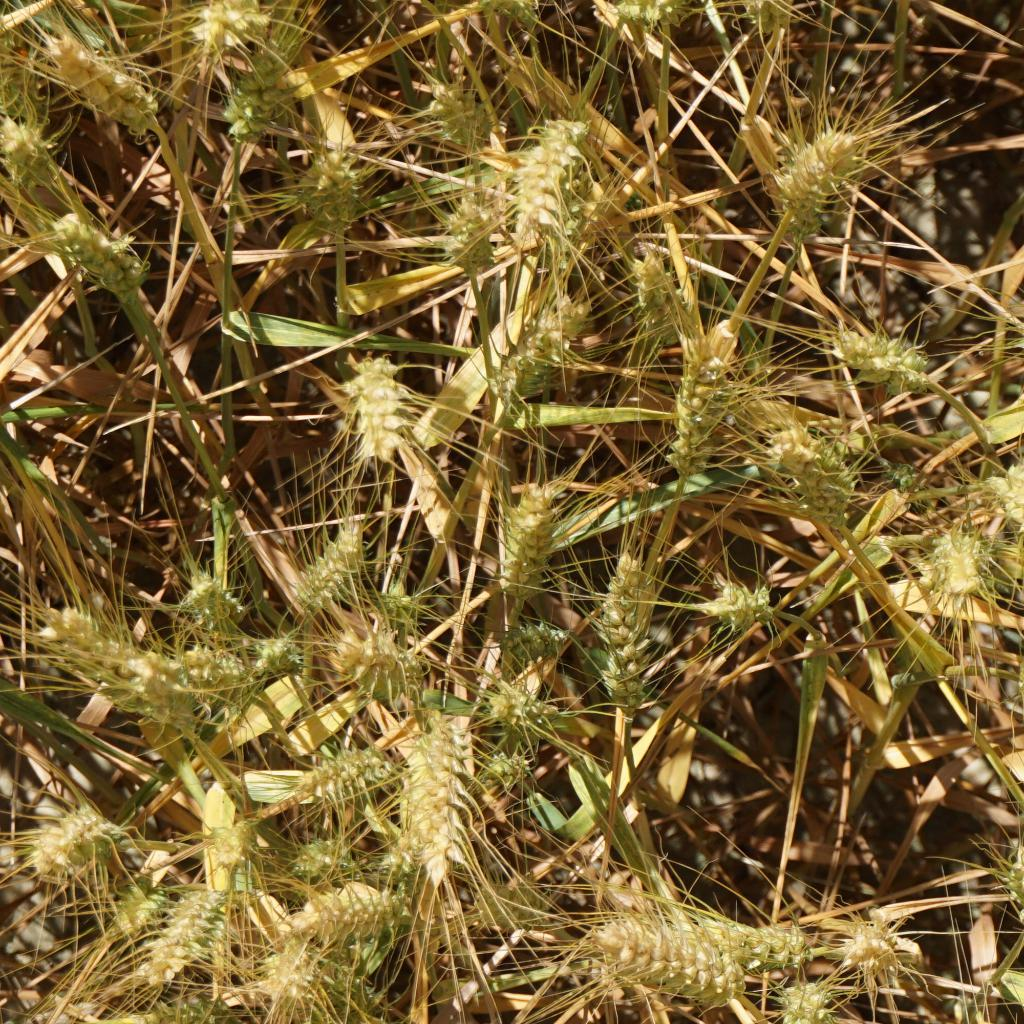0-0: (591, 915, 759, 1011), (496, 113, 594, 256), (374, 723, 460, 864), (55, 43, 157, 147), (648, 359, 727, 486), (821, 327, 952, 402), (589, 547, 647, 711), (145, 883, 229, 994), (288, 513, 370, 625), (39, 596, 129, 684), (332, 630, 435, 705), (494, 294, 571, 394), (221, 34, 288, 148), (51, 215, 152, 287), (766, 126, 864, 200), (493, 479, 556, 594), (539, 155, 598, 276), (333, 359, 413, 448), (780, 434, 858, 522), (125, 655, 209, 730), (768, 157, 835, 248), (709, 904, 802, 968), (434, 68, 509, 146), (291, 883, 401, 936), (622, 243, 679, 342), (297, 151, 368, 230), (482, 681, 567, 744), (919, 524, 992, 595), (0, 123, 67, 199), (971, 460, 1024, 555), (0, 0, 40, 123), (35, 806, 122, 862), (293, 742, 389, 792), (698, 579, 777, 639), (829, 926, 904, 985), (189, 0, 269, 55), (264, 937, 330, 1003), (499, 613, 576, 665), (183, 570, 249, 630), (443, 201, 501, 264), (136, 984, 221, 1024), (181, 638, 239, 696), (199, 809, 251, 873), (474, 743, 540, 791), (110, 871, 153, 943), (245, 631, 304, 681), (784, 983, 848, 1024), (364, 583, 423, 627), (291, 840, 361, 876), (466, 0, 542, 33), (994, 830, 1024, 909), (885, 452, 929, 502), (609, 0, 689, 26), (748, 0, 794, 45), (1003, 648, 1024, 733), (1005, 304, 1024, 367), (352, 1008, 402, 1024)
